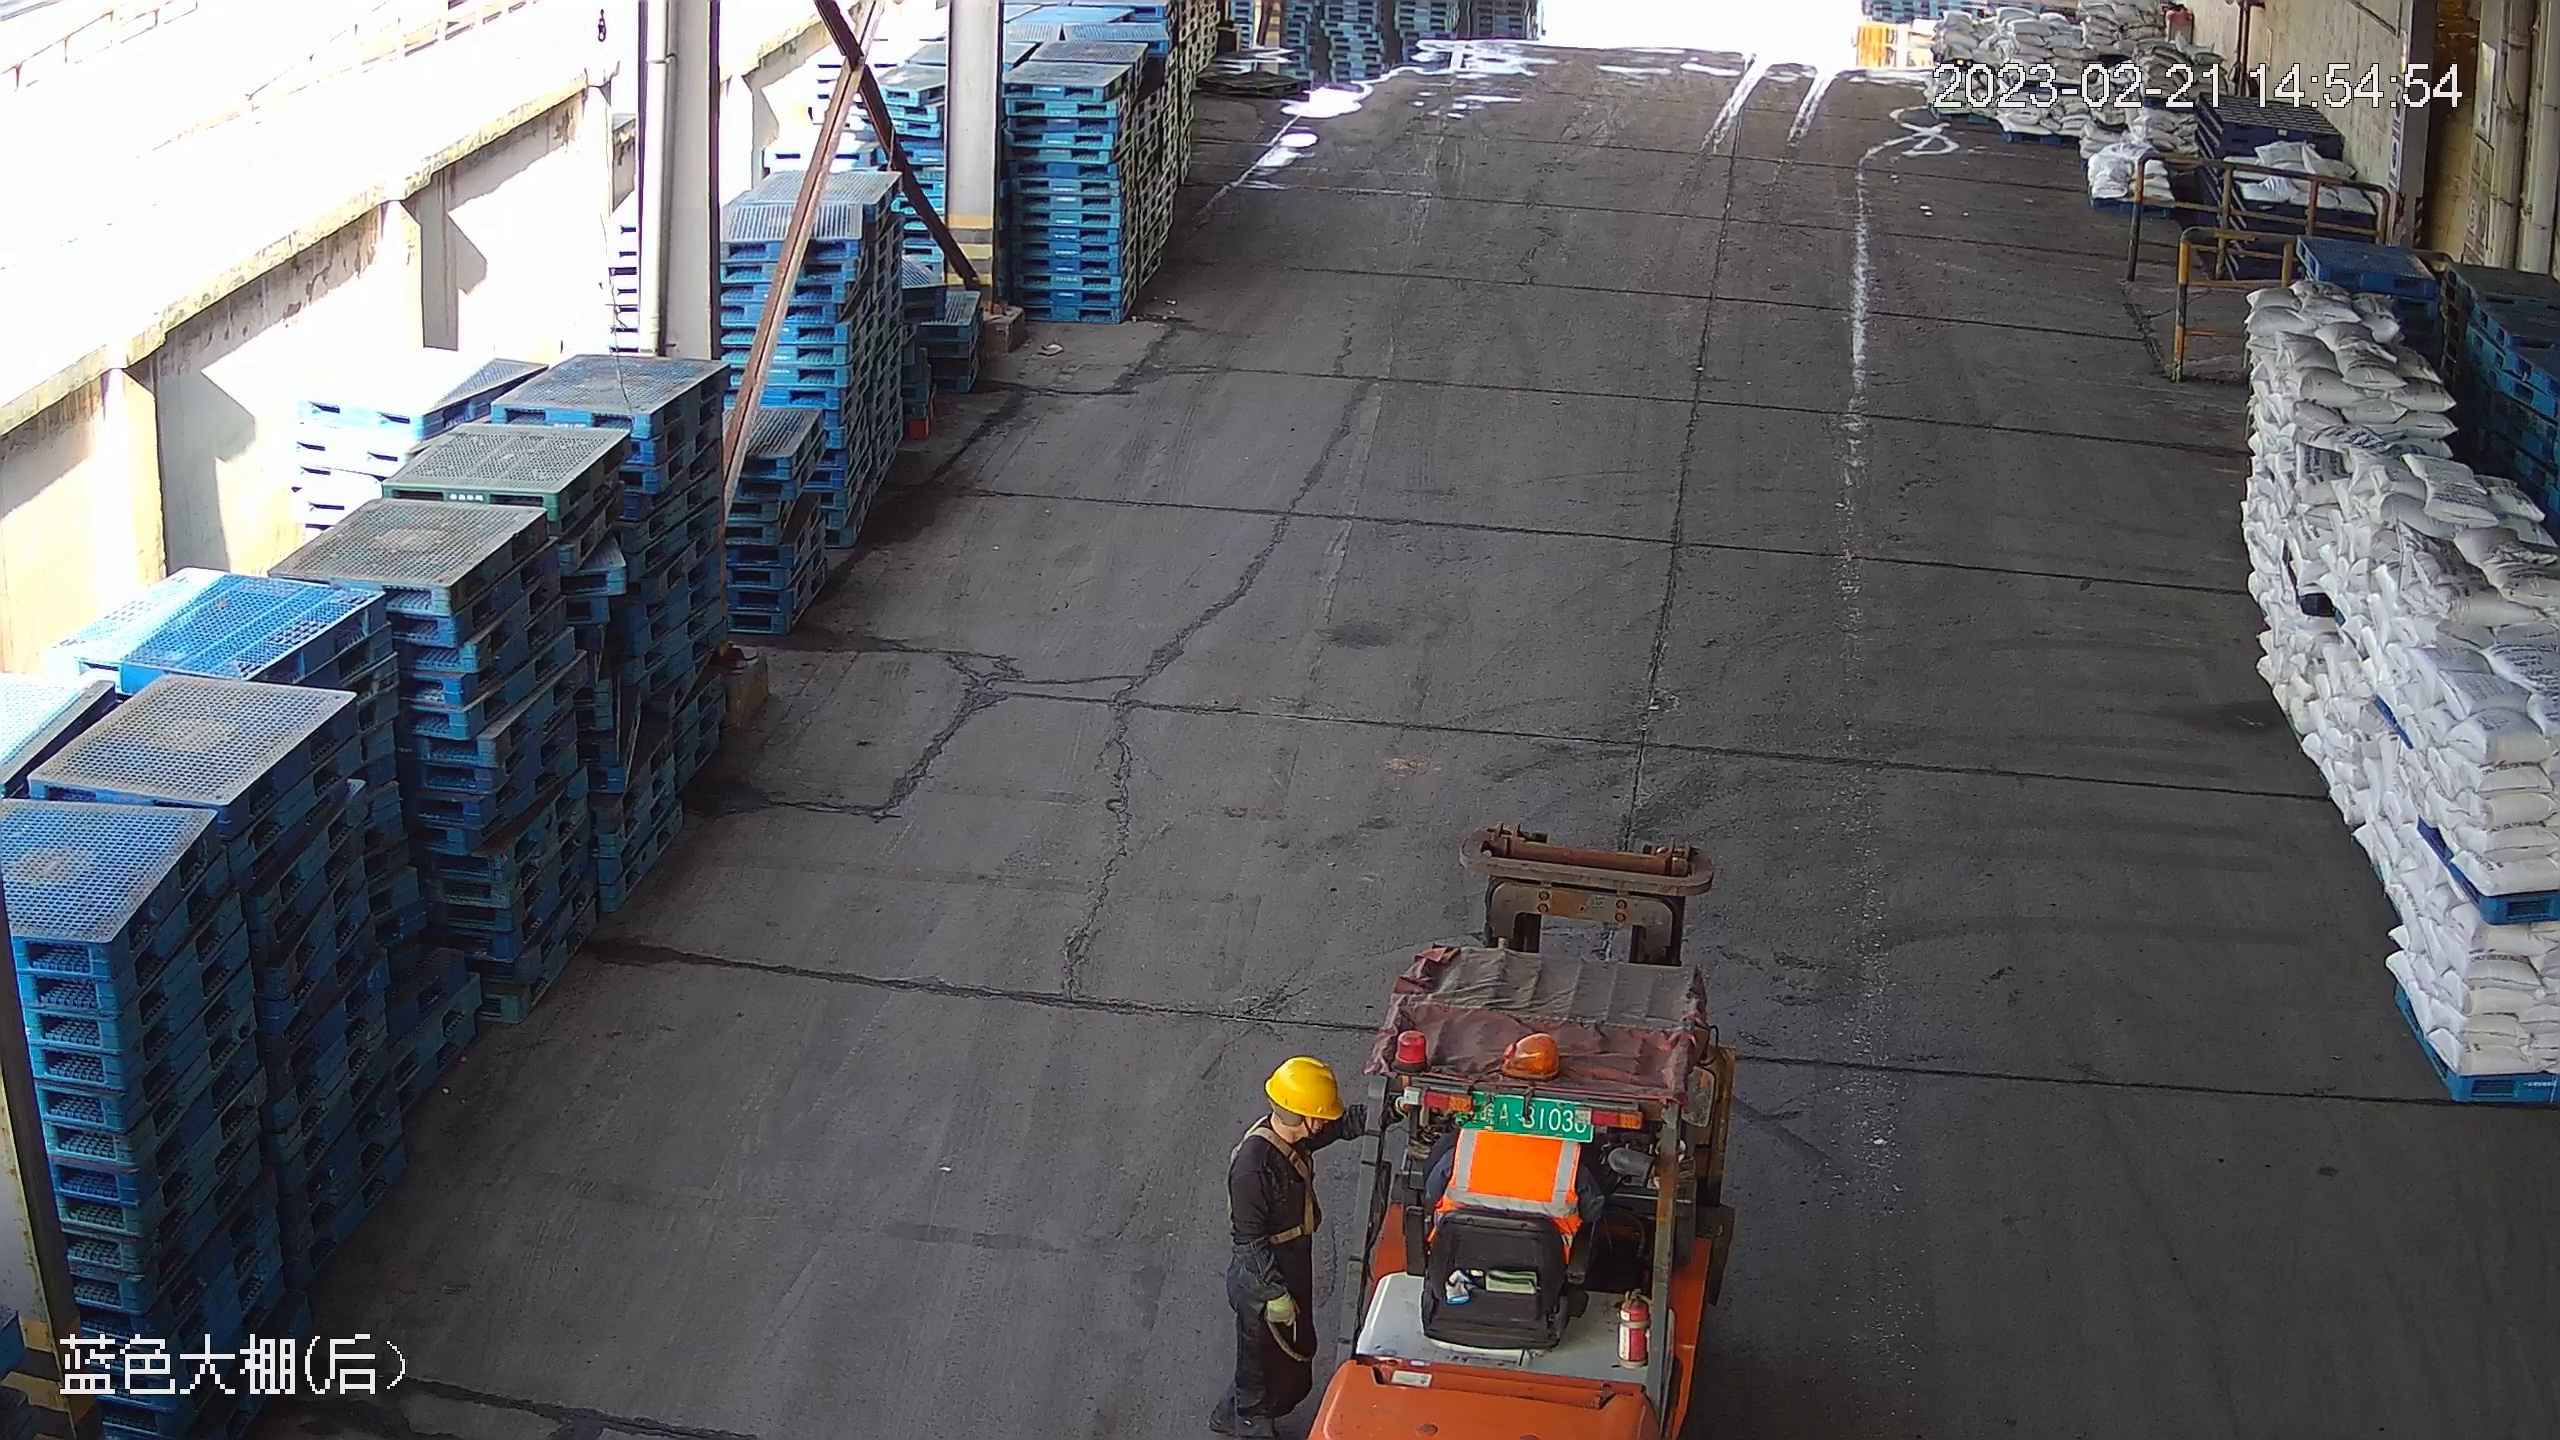belt: (1246, 1125, 1322, 1246)
head: (1224, 1056, 1350, 1216)
helmet: (1265, 1057, 1346, 1123)
people: (1207, 1056, 1405, 1440)
